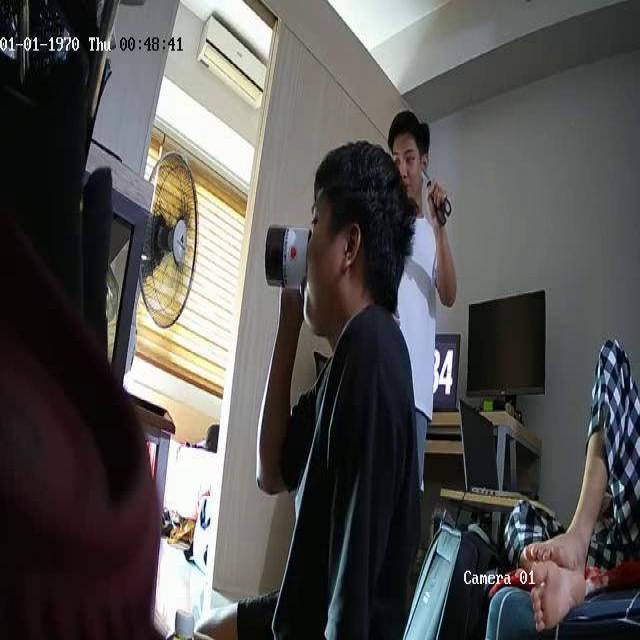scissor: (424, 171, 452, 225)
